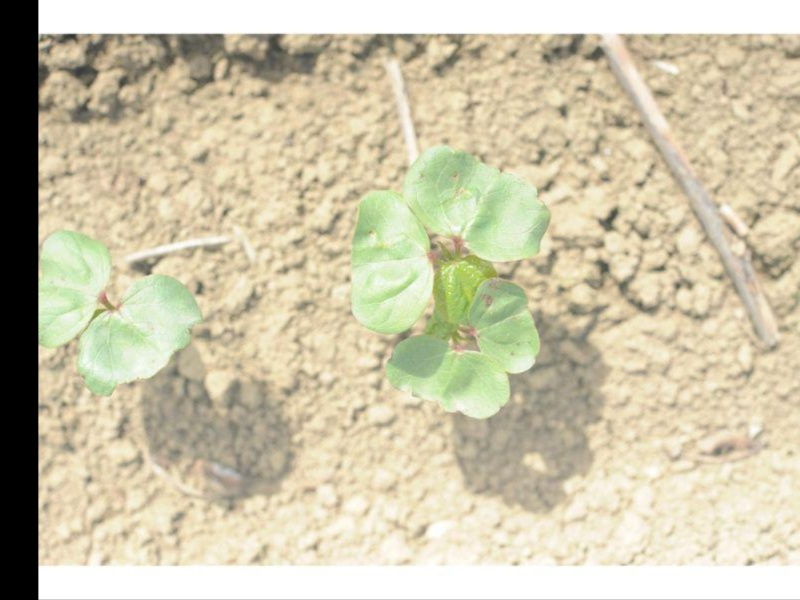cotton: (347, 144, 553, 422), (38, 227, 201, 399)
